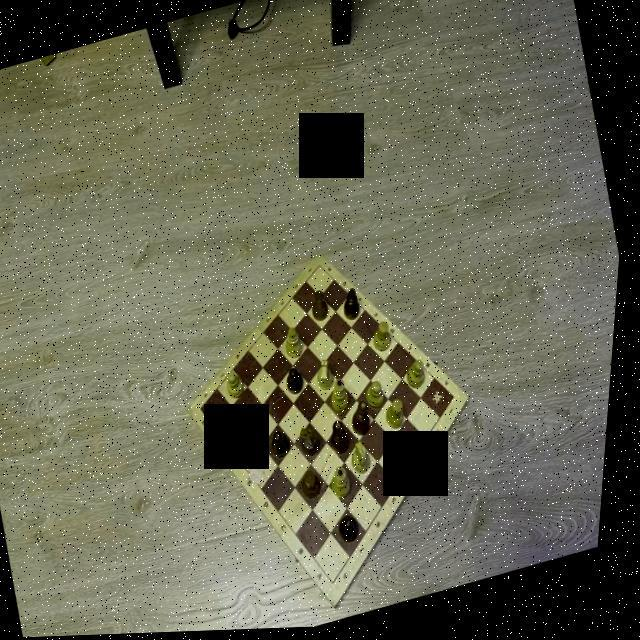chess-table-corners: (338, 581, 346, 589), (204, 407, 210, 414), (322, 265, 326, 270), (458, 398, 462, 402)
